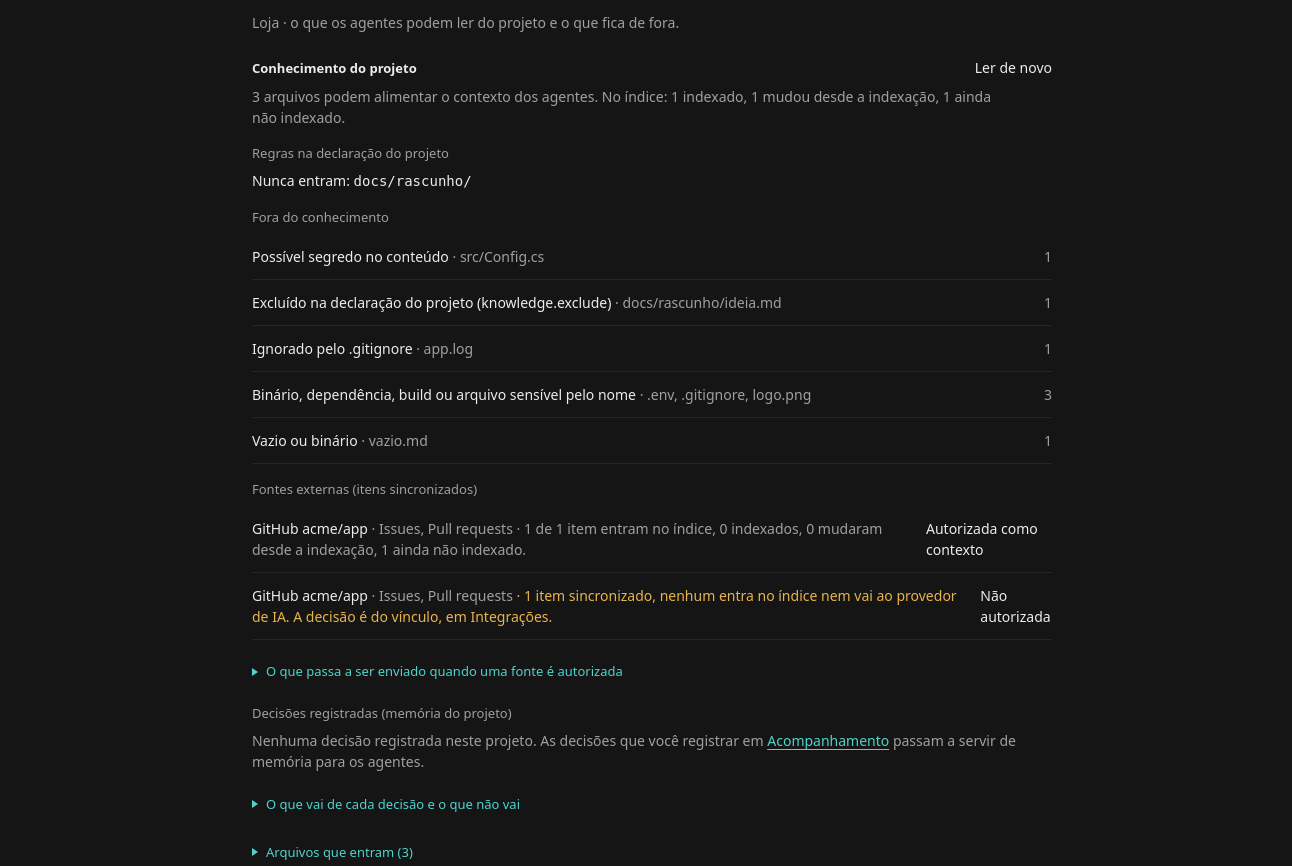
Scenario: Projeto · conhecimento › fontes externas › explica o que passa a ser enviado quando uma fonte é autorizada, e o que nunca vai
The width and height of the screenshot is (1292, 866).
Step 1. Click the heading "O que passa a ser enviado quando uma fonte é autorizada" → click(444, 671), box x1=266 y1=662 x2=623 y2=680
(page scrolled)
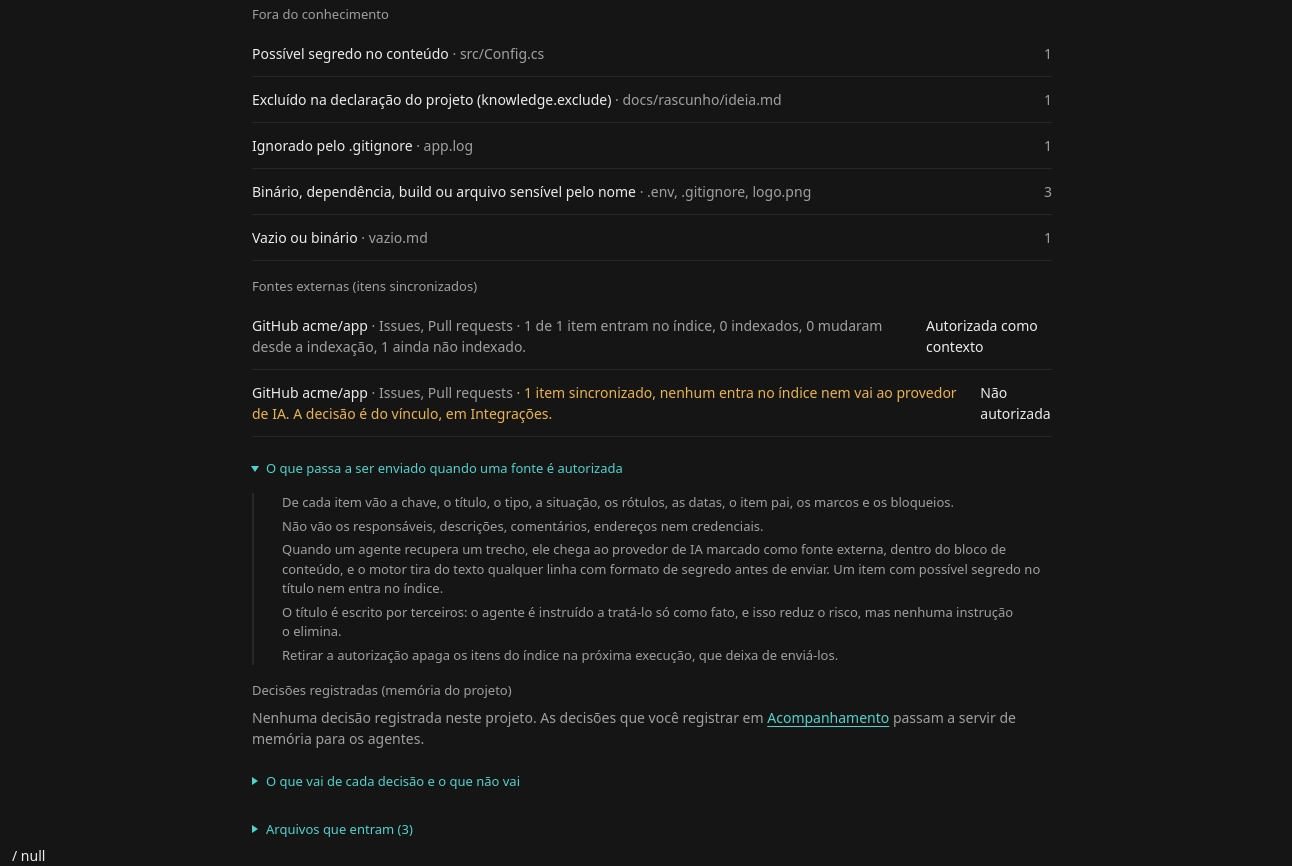
Check: the list item "De cada item vão a chave, o título, o tipo, a situação" is shown, box x1=282 y1=493 x2=954 y2=511
Check: the list item "Não vão os responsáveis, descrições, comentários, endereços nem credenciais" is shown, box x1=282 y1=517 x2=764 y2=535
Check: the list item "marcado como fonte externa" is shown, box x1=282 y1=540 x2=1040 y2=597
